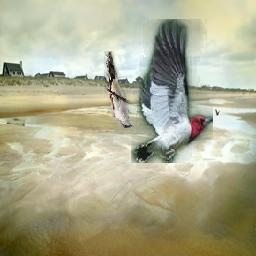Cuckoo: (104, 52, 134, 129)
Woodpecker: (131, 19, 213, 163)
